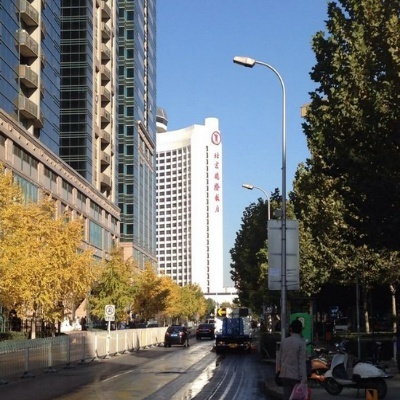car: (165, 324, 191, 350), (196, 324, 216, 341)
motorbike: (322, 341, 390, 398)
person: (276, 318, 311, 400)
traffic light: (217, 303, 251, 322)
truck: (211, 311, 254, 356)
